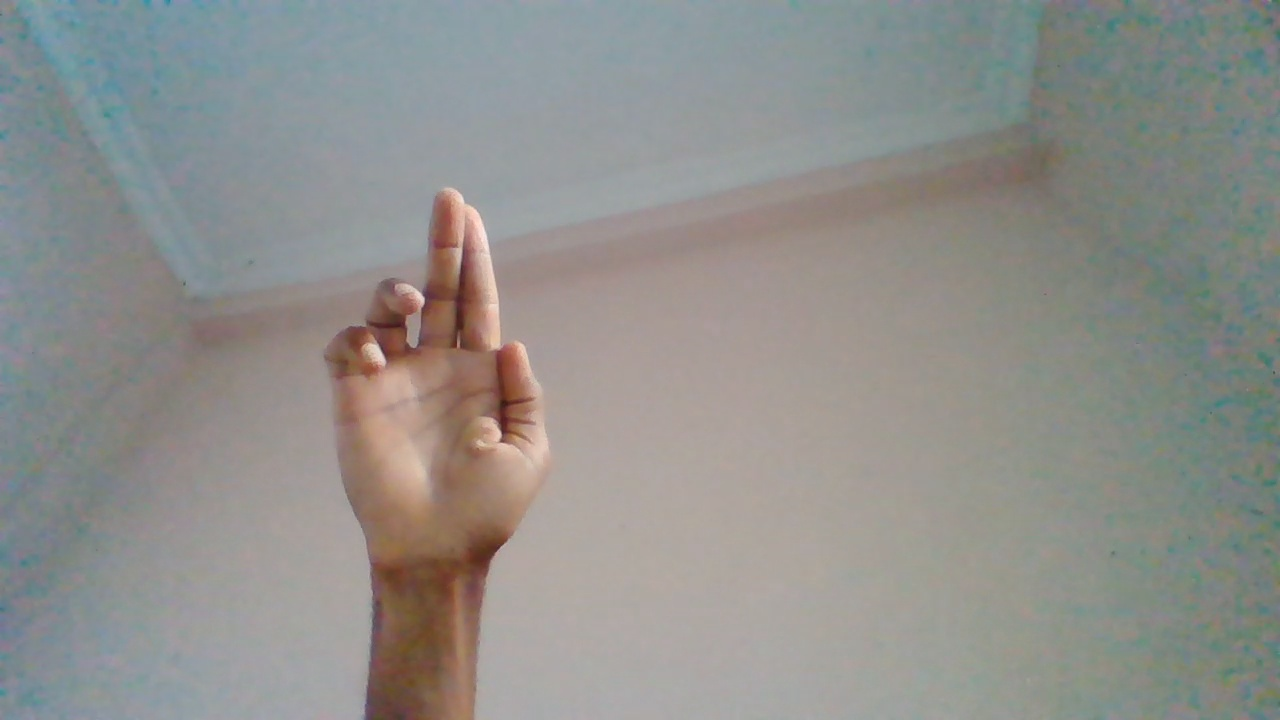gne: (324, 182, 552, 643)
